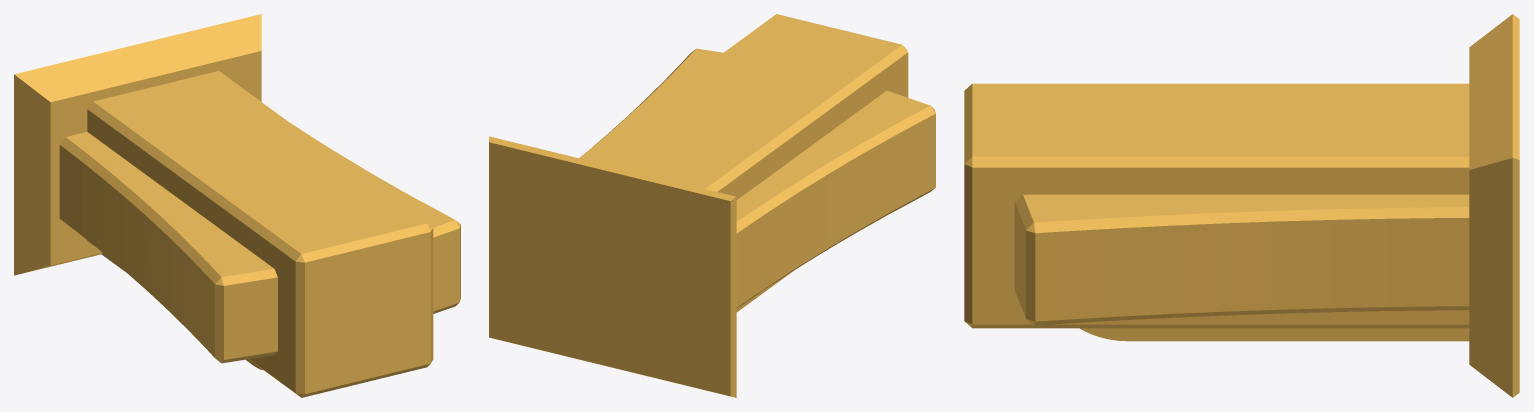
The model's file is trophy.obj.
3 renders of one model, left to right at view 1: azimuth 30°, elevation 25°; view 2: azimuth 150°, elevation 25°; view 3: azimuth 270°, elevation 25°, orthographic. The views are drawn at different scales.
Parts seen in each view (by area): view 1: Object.1; view 2: Object.1; view 3: Object.1.
Boxes of the visible parts, x1,y1,x2,y2 form: Object.1: (14, 14, 460, 397); Object.1: (489, 14, 935, 397); Object.1: (964, 14, 1519, 397).
Size of the model in its own units: 42.83 by 33.3 by 69.85.
